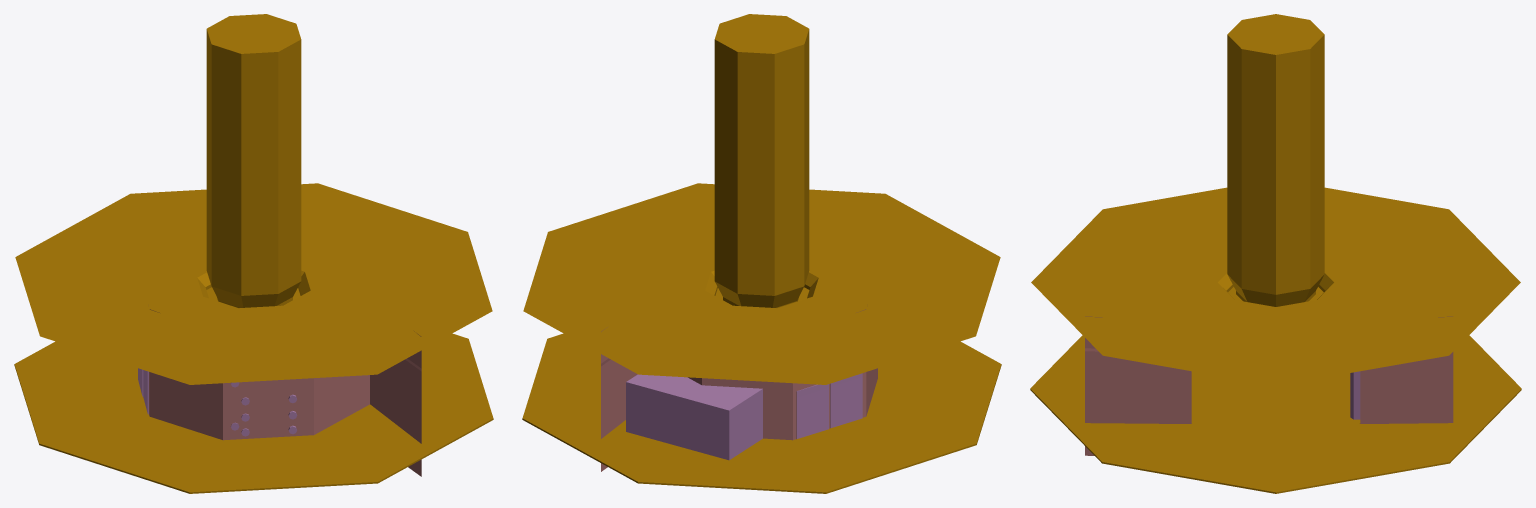
The model's file is hangar_fbx.fbx.
3 views of the same model, side by side, from view 1: azimuth 30°, elevation 25°; view 2: azimuth 150°, elevation 25°; view 3: azimuth 270°, elevation 25° (orthographic).
Visible parts, largest first — view 1: hangar_ceiling, hangarfloor, hangarwalls; view 2: hangar_ceiling, hangarfloor, pCube4, hangarwalls, hangar_rack1, hangar_rack; view 3: hangar_ceiling, hangarfloor, hangarwalls.
Boxes of the visible parts, x1,y1,x2,y2 form: hangar_ceiling: (15,14,492,384); hangarfloor: (14,333,493,493); hangarwalls: (149,309,421,476); hangar_ceiling: (523,14,1000,384); hangarfloor: (522,333,1001,493); pCube4: (626,374,762,460); hangarwalls: (601,309,877,471); hangar_rack1: (796,384,828,438); hangar_rack: (830,373,862,428); hangar_ceiling: (1031,14,1520,385); hangarfloor: (1030,335,1521,493); hangarwalls: (1085,316,1453,455).
Size of the model in its own units: 36.06 by 31.5 by 36.06.
